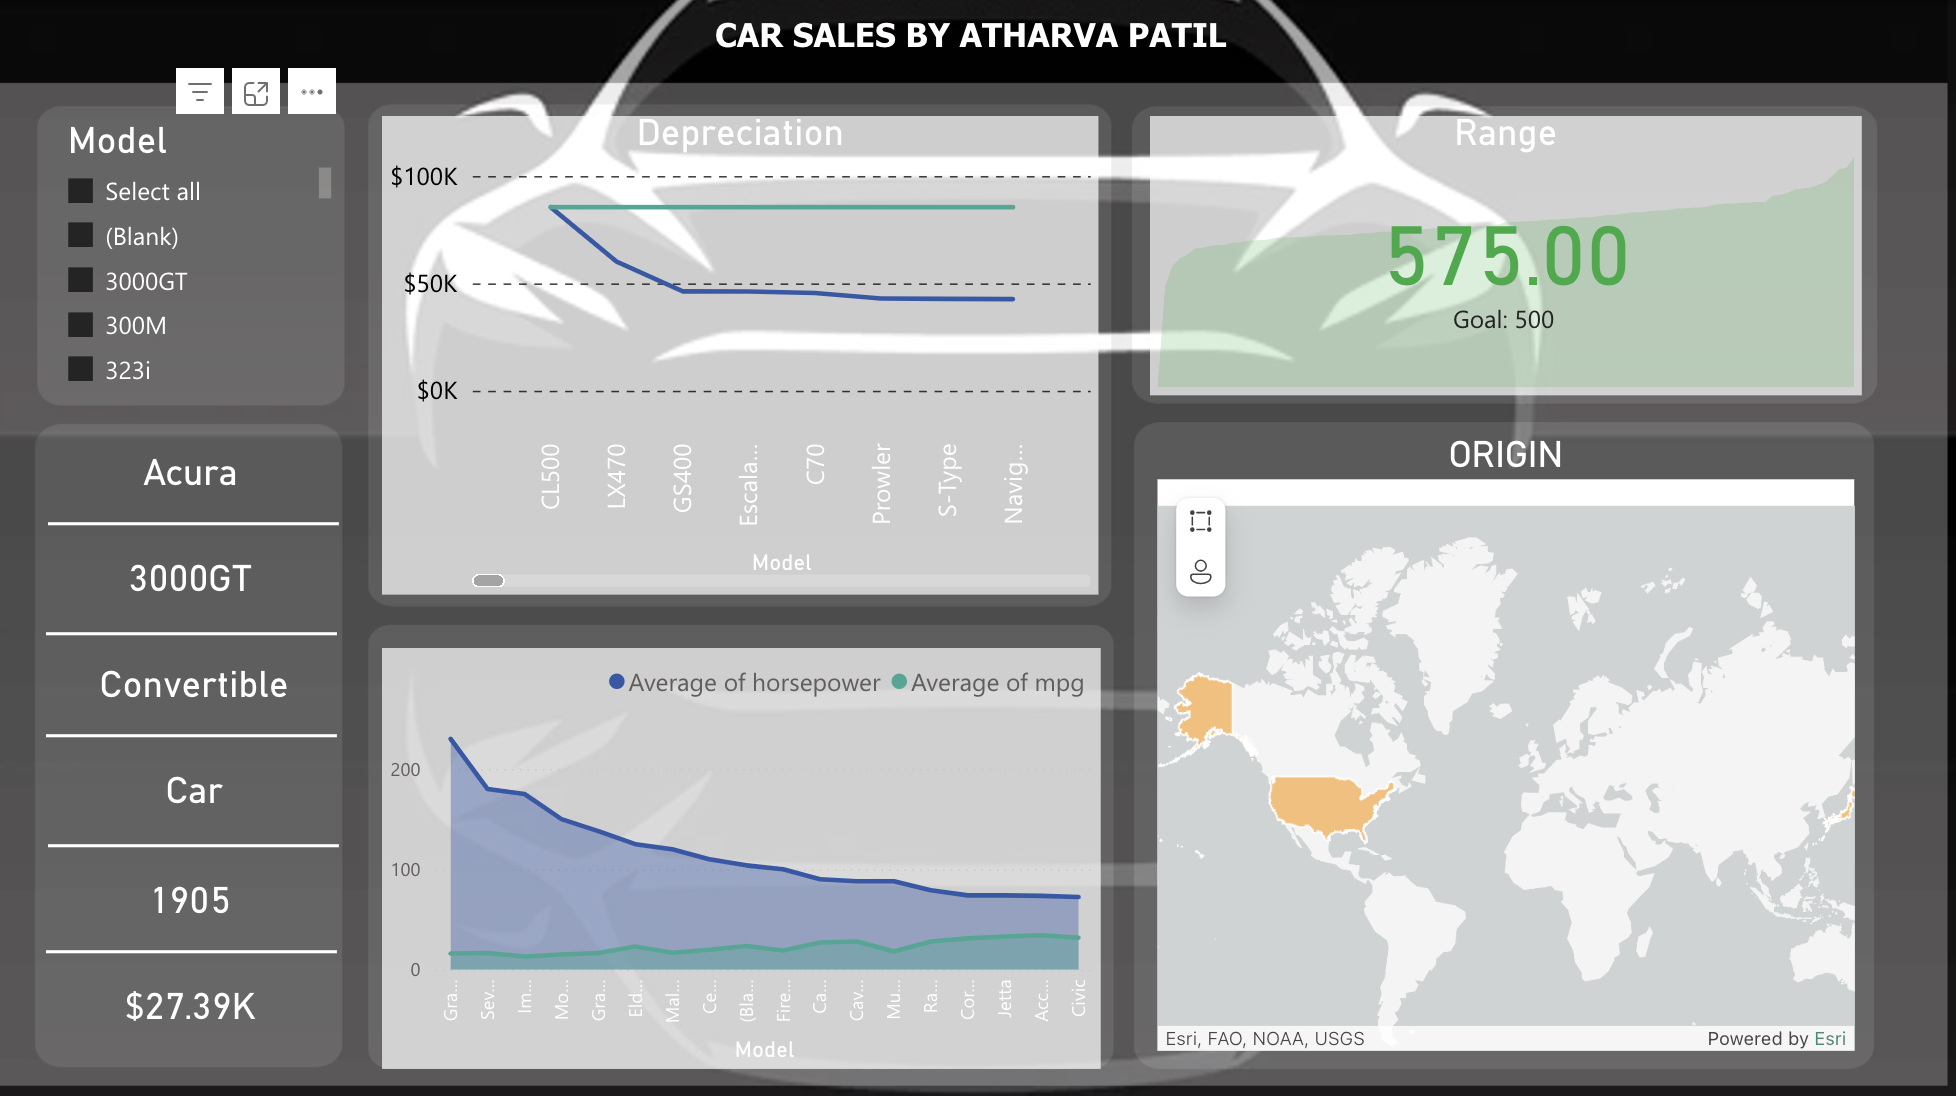

This screenshot's page, from the dashboard's own definition file:
{"tool":"powerbi","page":{"name":"Model","canvas":[1280,720],"ordinal":1},"visuals":[{"type":"textbox","box":[9.4,10.9,1256.2,35.9],"z":0},{"type":"lineChart","title":"Depreciation","fields":{"Category":["Car_sales.Model"],"Y":["Avg(Car_sales.Depreciation Amount)","Avg(Car_sales.Max Depreciation)"]},"box":[254.7,81.2,465.6,310.9],"z":1000},{"type":"areaChart","fields":{"Category":["Car_sales.Model"],"Y":["Avg(Car_info.horsepower)","Avg(Car_info.mpg)"]},"box":[254.7,428.1,467.2,273.4],"z":2000},{"type":"card","fields":{"Values":["Min(Car_model.Category)"]},"box":[39.1,415.6,187.5,68.8],"z":3000},{"type":"esriVisual","title":"ORIGIN","fields":{"Location":["Car_info.origin"]},"box":[753.1,290.6,462.5,403.1],"z":4000},{"type":"shape","box":[37.5,301.6,189.1,90.6],"z":5000},{"type":"card","fields":{"Values":["Min(Car_model.Year)"]},"box":[35.9,556.2,187.5,68.8],"z":6000},{"type":"shape","box":[35.9,373.4,189.1,90.6],"z":7000},{"type":"card","fields":{"Values":["Min(Car_sales.Model)"]},"box":[35.9,346.9,187.5,68.8],"z":8000},{"type":"shape","box":[35.9,439.1,189.1,90.6],"z":9000},{"type":"card","fields":{"Values":["Min(Car_sales.Vehicle_type)"]},"box":[39.1,484.4,187.5,68.8],"z":10000},{"type":"shape","box":[37.5,510.9,189.1,90.6],"z":11000},{"type":"card","fields":{"Values":["Min(Car_sales.Manufacturer)"]},"box":[35.9,278.1,187.5,68.8],"z":12000},{"type":"shape","box":[35.9,579.7,189.1,90.6],"z":13000},{"type":"card","fields":{"Values":["Avg(Car_sales.Price)"]},"box":[35.9,625,187.5,68.8],"z":14000},{"type":"kpi","title":"Range","fields":{"Indicator":["Avg(Car_sales.Range)"],"TrendLine":["Car_sales.Range"],"Goal":["Car_sales.target_range"]},"box":[753.1,81.2,462.5,181.2],"z":15000},{"type":"slicer","fields":{"Values":["Car_sales.Model"]},"box":[37.5,81.2,189.1,181.2],"z":16000}]}

Visuals, with their boxes in screenshot pixels (x1, y1, x2, y2), scaled from the page's 1280x720 canvas onto the 1956x1096 screenshot:
textbox: 14/17/1934/71
"Depreciation" lineChart: 389/124/1101/597
areaChart - Car_sales.Model x Avg(Car_info.horsepower): 389/652/1103/1068
card - Min(Car_model.Category): 60/633/346/737
"ORIGIN" esriVisual: 1151/442/1858/1056
shape: 57/459/346/597
card - Min(Car_model.Year): 55/847/341/951
shape: 55/568/344/706
card - Min(Car_sales.Model): 55/528/341/633
shape: 55/668/344/806
card - Min(Car_sales.Vehicle_type): 60/737/346/842
shape: 57/778/346/916
card - Min(Car_sales.Manufacturer): 55/423/341/528
shape: 55/882/344/1020
card - Avg(Car_sales.Price): 55/951/341/1056
"Range" kpi: 1151/124/1858/399
slicer - Car_sales.Model: 57/124/346/399
